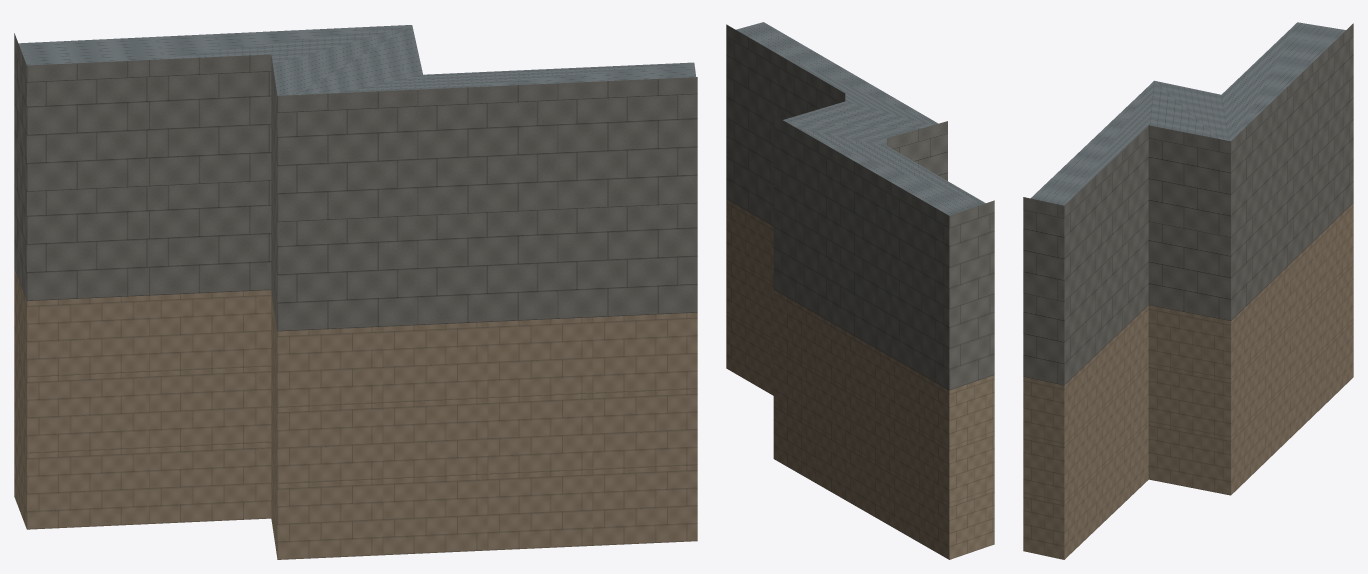
The model's file is bld_c-1_-4_559.gltf.
3 renders of one model, left to right at view 1: azimuth 30°, elevation 25°; view 2: azimuth 150°, elevation 25°; view 3: azimuth 270°, elevation 25°, orthographic. The views are drawn at different scales.
Parts seen in each view (by area): view 1: bld_c-1_-4_559; view 2: bld_c-1_-4_559; view 3: bld_c-1_-4_559.
Part boxes in pixels (box(x1,y1,x2,y2)): bld_c-1_-4_559: box(14, 25, 697, 559); bld_c-1_-4_559: box(726, 22, 994, 559); bld_c-1_-4_559: box(1023, 22, 1353, 559).
Bounding box in the file's own units: 11.93 × 10.28 × 8.69.
4 materials, 4 textured.
